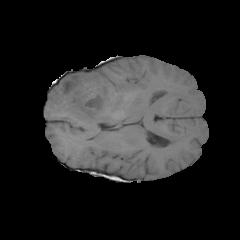glioma: (46, 69, 125, 123)
